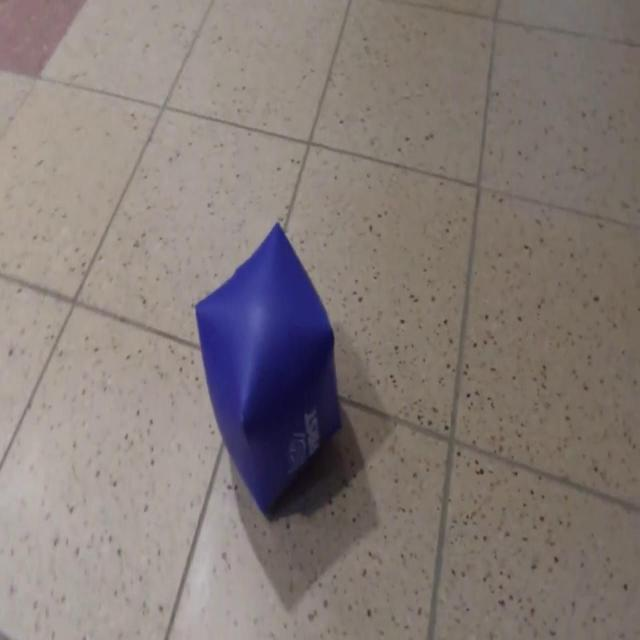frc_cube: (195, 223, 343, 513)
